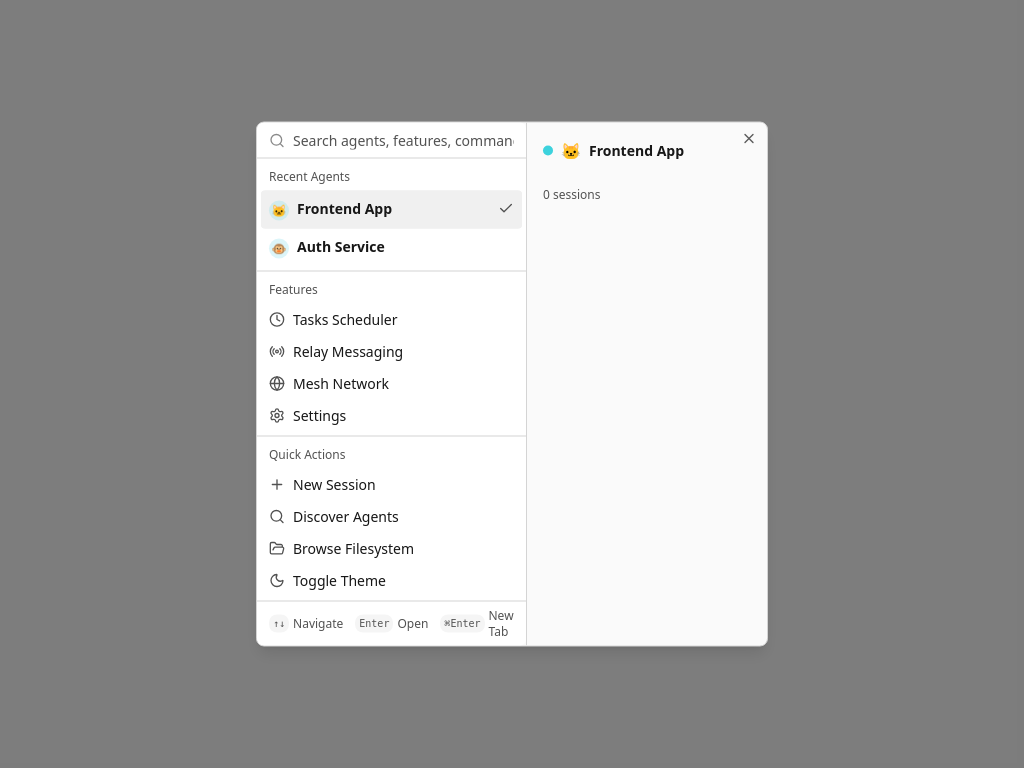
Command Palette Integration › entering @ shows All Agents and hides other groups
Type "@" into the dropdown with placeholder "Search agents, features, commands..." at (404, 140), box [293,120,514,160]
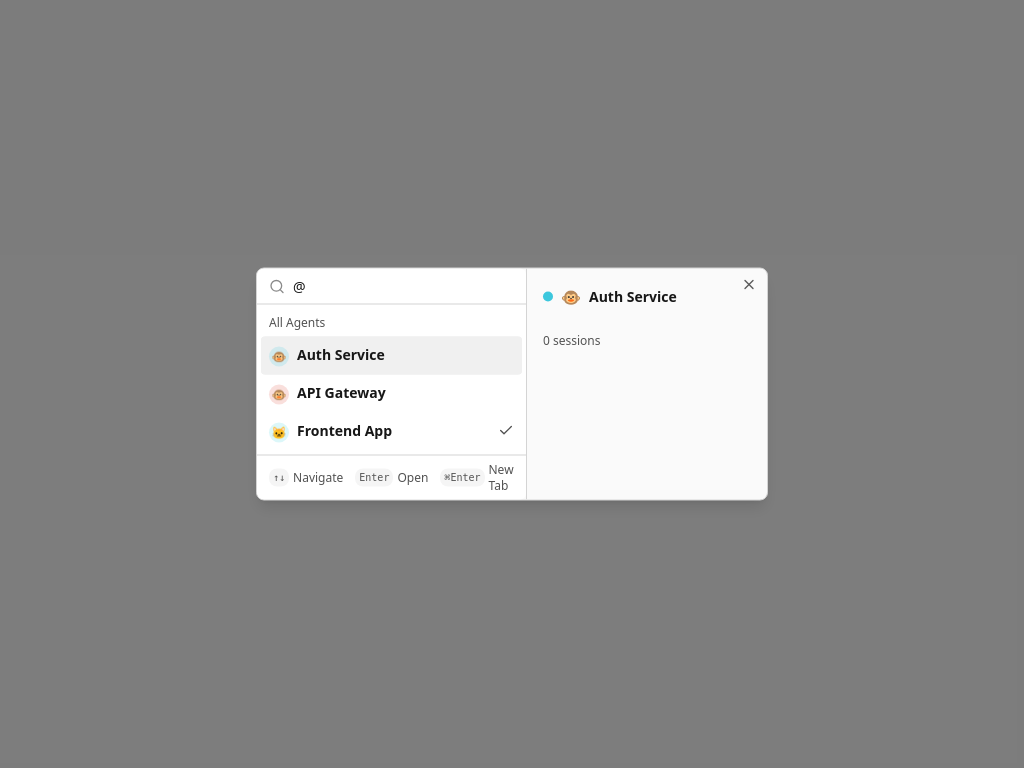
Expected: the text "All Agents" is shown, [269,314,325,330]
Expected: the text "Recent Agents" is gone
Expected: the text "Features" is gone
